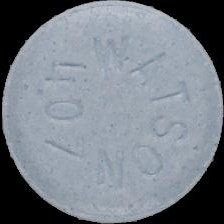63739-349: (0, 0, 224, 224)
